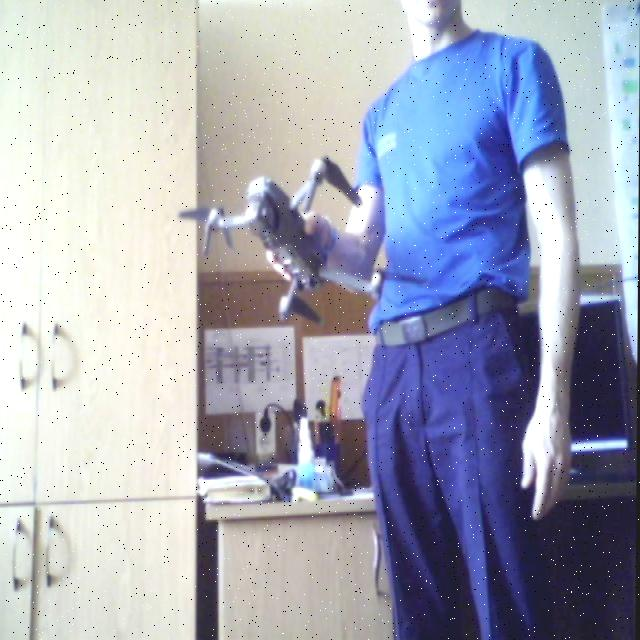drone: (176, 138, 397, 352)
